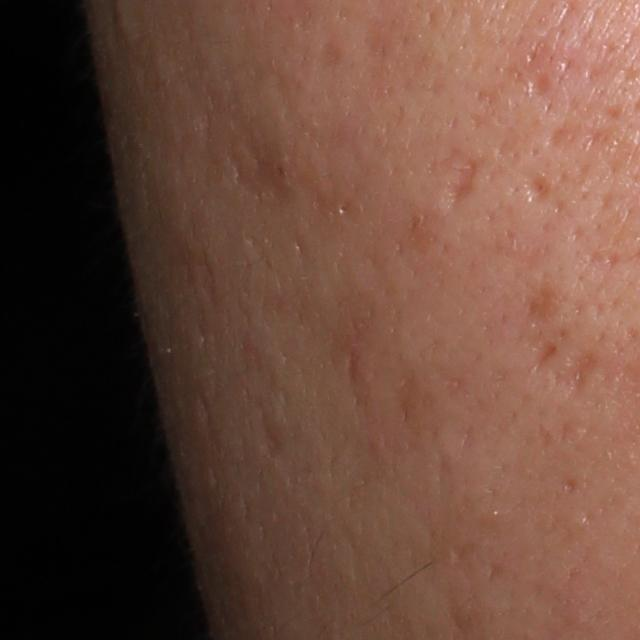atrophic_scar: (544, 350, 605, 404), (254, 392, 289, 467), (447, 152, 482, 209), (522, 173, 556, 211), (529, 339, 561, 377), (525, 66, 555, 105), (543, 123, 581, 153)
